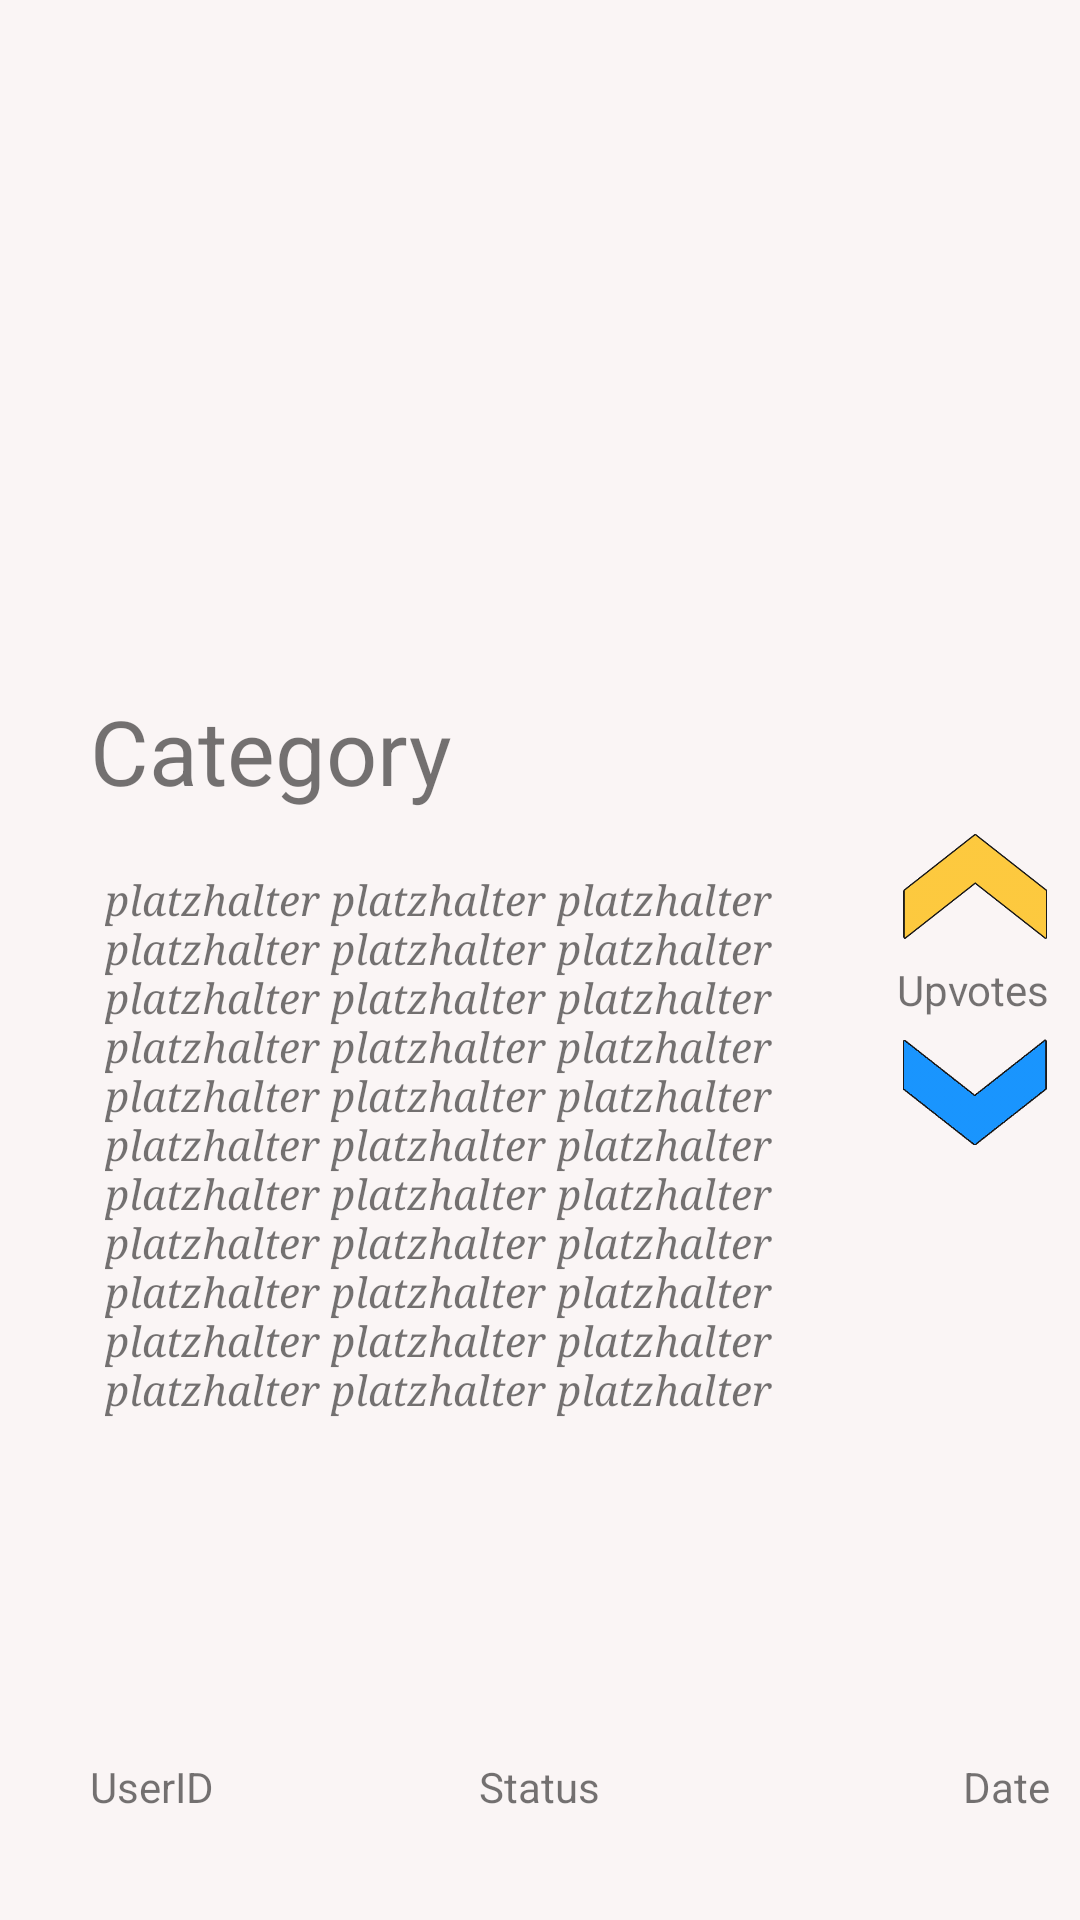

Point at icon controls on the screen. Image size 1080px x 1920px, points as [x,y].
downvote: [975,1092]
